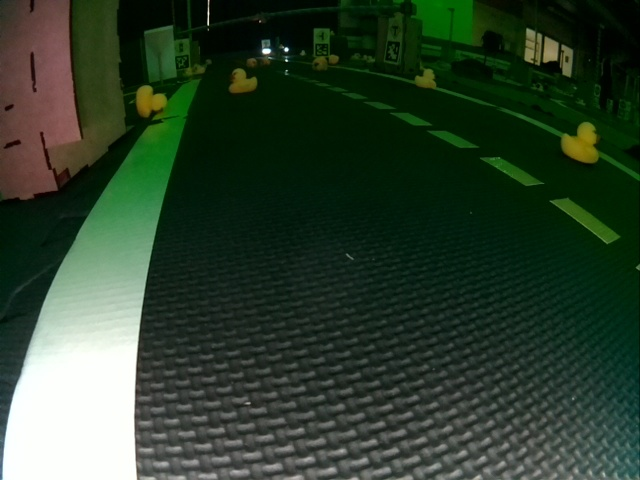Duckie: (562, 121, 600, 162), (137, 85, 167, 117), (230, 67, 257, 92), (416, 69, 436, 85), (314, 57, 327, 67), (330, 54, 340, 64), (246, 58, 256, 67)
Intersection sign: (390, 20, 401, 38), (316, 30, 328, 41)
QR code: (385, 40, 400, 61), (176, 56, 190, 69), (316, 44, 328, 56)
Signal sign: (175, 41, 187, 53)
